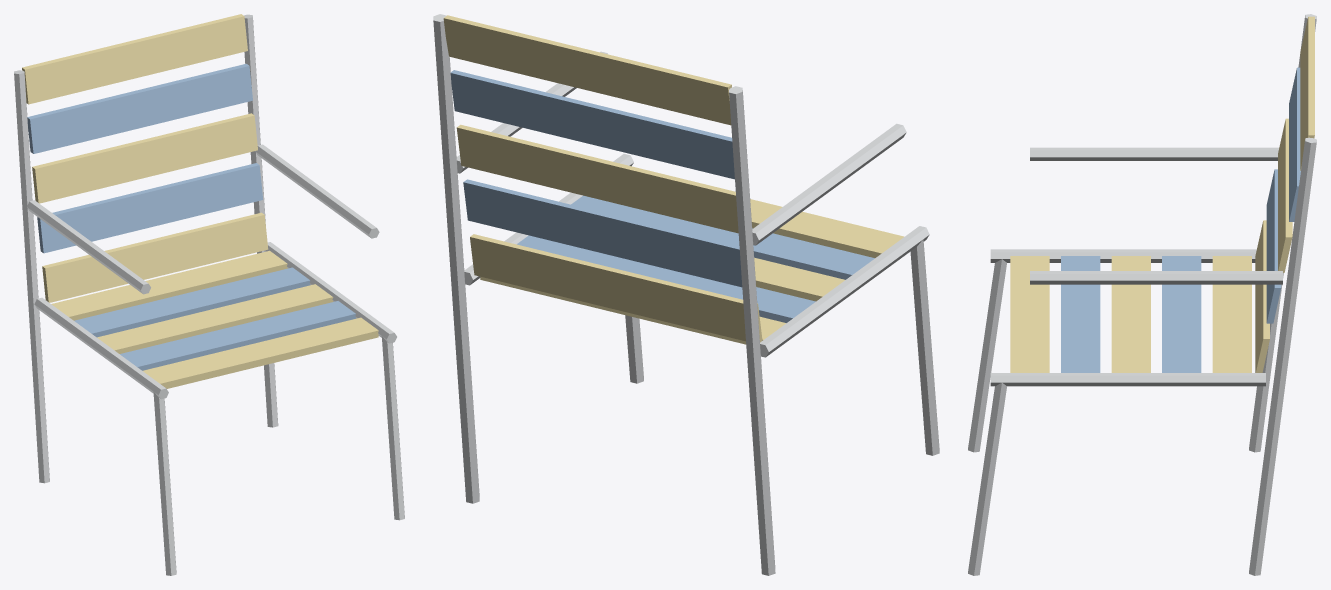
The model's file is lawn_chair.glb.
3 renders of one model, left to right at view 1: azimuth 30°, elevation 25°; view 2: azimuth 150°, elevation 25°; view 3: azimuth 270°, elevation 25°, orthographic. The views are drawn at different scales.
Visible parts, largest first — view 1: lawn_chair_cloth_y, lawn_chair_cloth_b, lawn_chair_alu; view 2: lawn_chair_cloth_y, lawn_chair_cloth_b, lawn_chair_alu; view 3: lawn_chair_alu, lawn_chair_cloth_y, lawn_chair_cloth_b.
Part boxes in pixels (bbox=[...]): lawn_chair_cloth_y: bbox=[22, 14, 378, 388]; lawn_chair_cloth_b: bbox=[27, 64, 355, 370]; lawn_chair_alu: bbox=[14, 14, 404, 575]; lawn_chair_cloth_y: bbox=[443, 15, 904, 344]; lawn_chair_cloth_b: bbox=[450, 70, 874, 322]; lawn_chair_alu: bbox=[433, 14, 939, 575]; lawn_chair_alu: bbox=[968, 14, 1316, 575]; lawn_chair_cloth_y: bbox=[1010, 16, 1314, 372]; lawn_chair_cloth_b: bbox=[1061, 67, 1300, 372].
Size of the model in its own units: 0.544 by 0.8564 by 0.6206.
